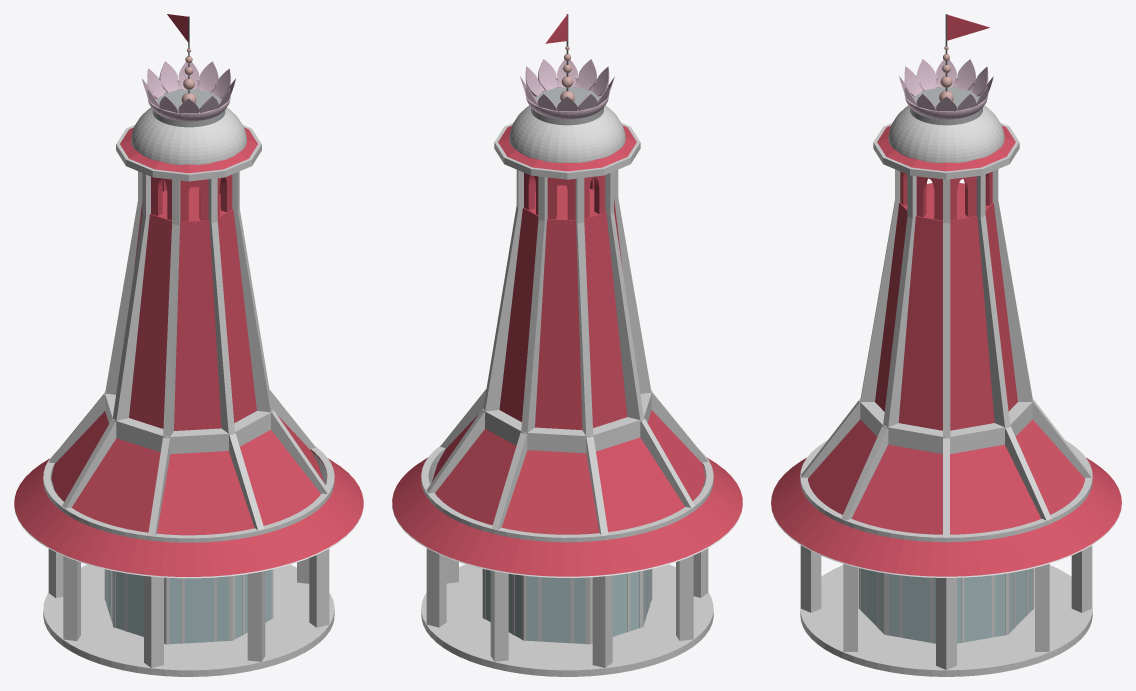
The model's file is mahrashi mahi mandir.glb.
3 views of the same model, side by side, from view 1: azimuth 30°, elevation 25°; view 2: azimuth 150°, elevation 25°; view 3: azimuth 270°, elevation 25° (orthographic).
Parts seen in each view (by area): view 1: Mesh_Mesh_head_geo.001_lambert2SG.001; view 2: Mesh_Mesh_head_geo.001_lambert2SG.001; view 3: Mesh_Mesh_head_geo.001_lambert2SG.001.
Boxes of the visible parts, <box> form: Mesh_Mesh_head_geo.001_lambert2SG.001: <box>14,14,363,676</box>; Mesh_Mesh_head_geo.001_lambert2SG.001: <box>392,14,742,676</box>; Mesh_Mesh_head_geo.001_lambert2SG.001: <box>771,14,1121,676</box>.
Size of the model in its own units: 240 by 454 by 240.
